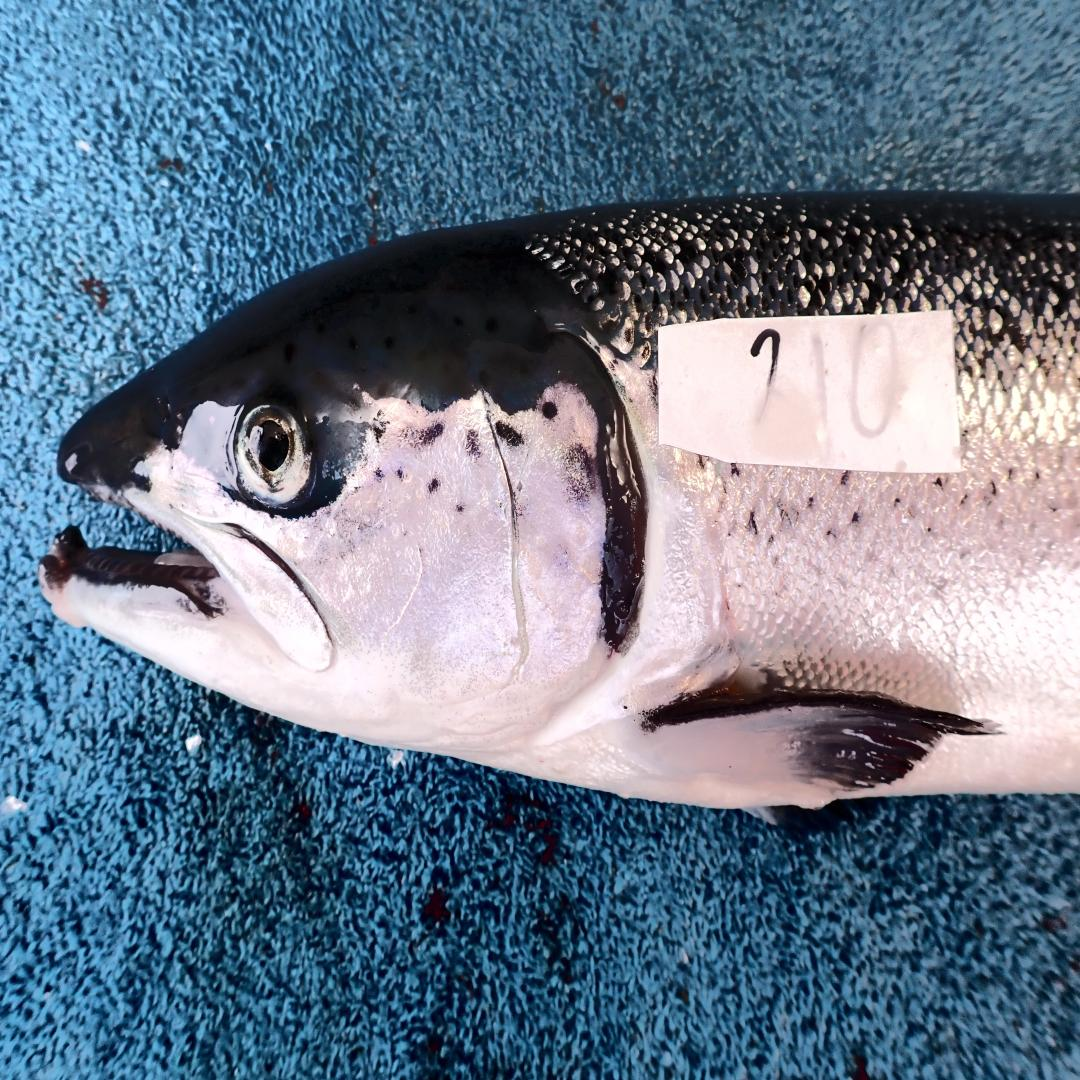spot: (561, 445, 596, 506), (496, 419, 523, 447), (418, 420, 445, 446), (373, 413, 388, 447), (466, 431, 482, 460), (542, 402, 557, 419), (428, 478, 439, 497), (457, 500, 466, 513), (397, 468, 406, 481), (375, 469, 383, 483)
